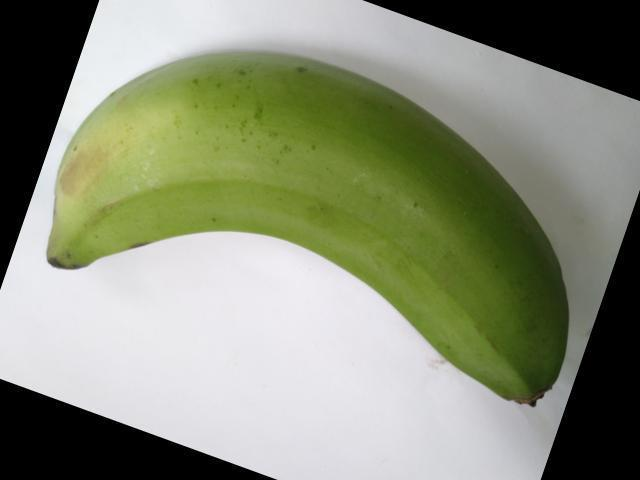freshunripe: (35, 38, 580, 424)
